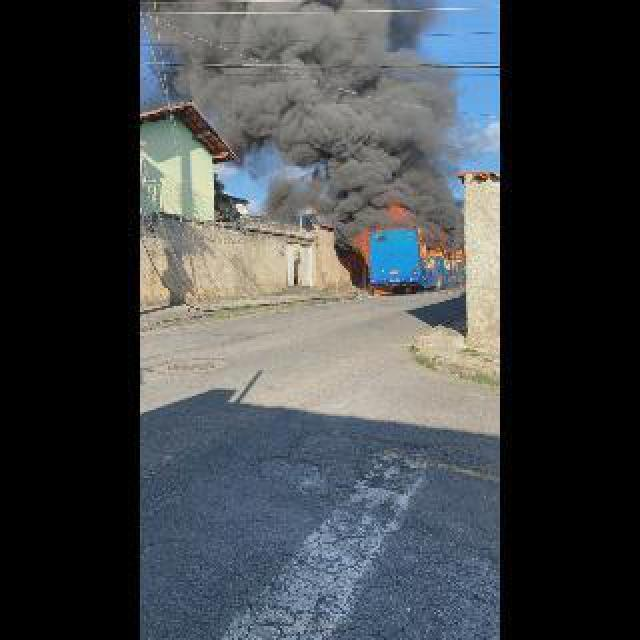Fire: (360, 228, 376, 264), (420, 244, 448, 256), (454, 246, 466, 262), (374, 286, 392, 294)
Smoke: (204, 54, 466, 230)
